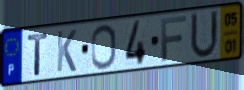4: (124, 19, 148, 68)
F: (160, 14, 188, 63)
K: (55, 28, 78, 74)
O: (90, 23, 118, 71)
T: (26, 31, 50, 78)
U: (189, 9, 220, 61)
